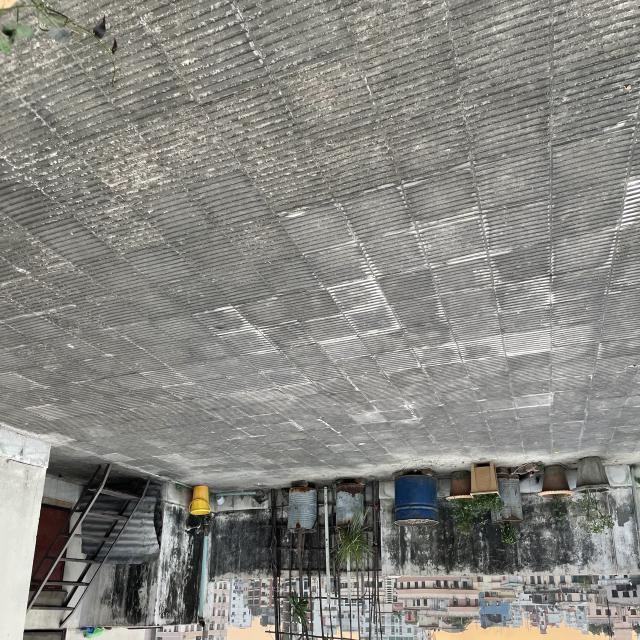Breeding Place: (395, 467, 437, 529), (286, 482, 320, 532), (330, 482, 364, 532), (493, 470, 521, 524), (538, 460, 572, 500), (467, 462, 499, 502), (188, 485, 218, 519), (448, 472, 470, 507)
